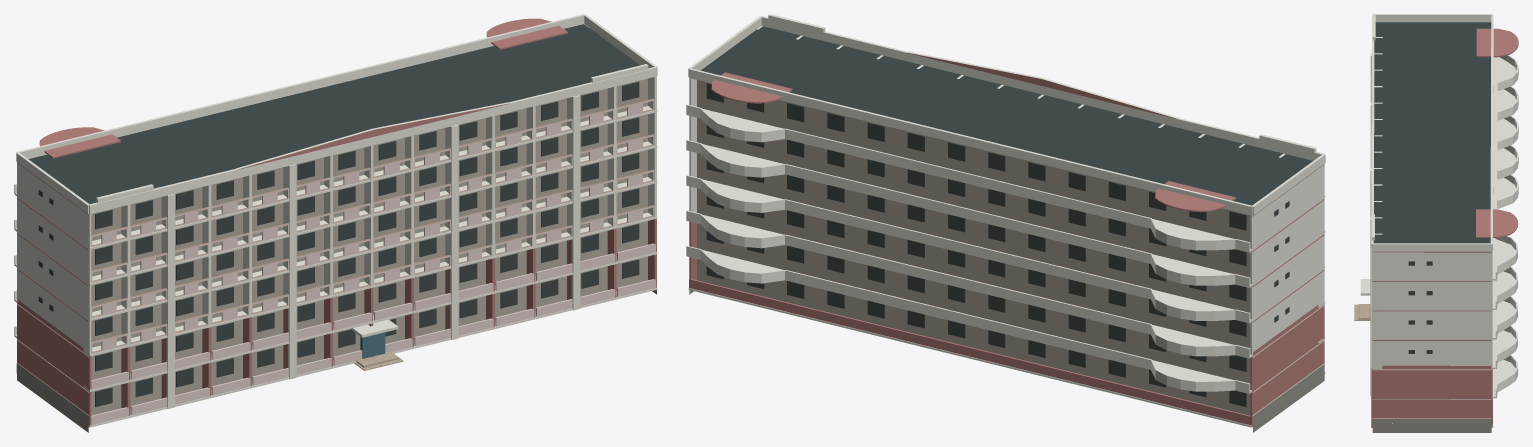
File: chunk-dorm-way-759147076.glb
3 renders of one model, left to right at view 1: azimuth 30°, elevation 25°; view 2: azimuth 150°, elevation 25°; view 3: azimuth 270°, elevation 25°, orthographic. The views are drawn at different scales.
Visible parts, largest first — view 1: chunk-dorm-way-759147076; view 2: chunk-dorm-way-759147076; view 3: chunk-dorm-way-759147076.
Part boxes in pixels (x1,y1,x2,y2): chunk-dorm-way-759147076: (14,14,657,432); chunk-dorm-way-759147076: (686,14,1325,432); chunk-dorm-way-759147076: (1354,14,1518,432).
Bounding box in the file's own units: 55.36 × 21.79 × 16.71.
11 materials, 1 textured.
